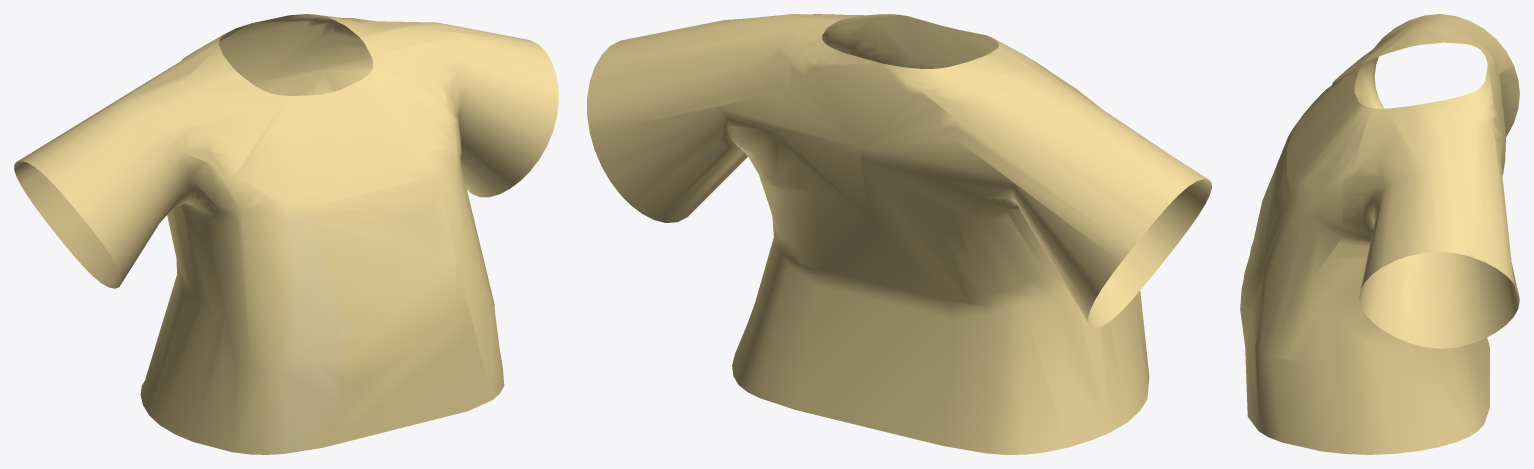
Rendered from Costume04_weight_Shert-02.fbx.
3 views of the same model, side by side, from view 1: azimuth 30°, elevation 25°; view 2: azimuth 150°, elevation 25°; view 3: azimuth 270°, elevation 25° (orthographic). The views are drawn at different scales.
Visible parts, largest first — view 1: body_boy.002; view 2: body_boy.002; view 3: body_boy.002.
Boxes of the visible parts, box(x1,y1,x2,y2) form: body_boy.002: box(14, 14, 558, 454); body_boy.002: box(587, 14, 1211, 454); body_boy.002: box(1240, 14, 1519, 454).
Bounding box in the file's own units: 574 × 349 × 286.
